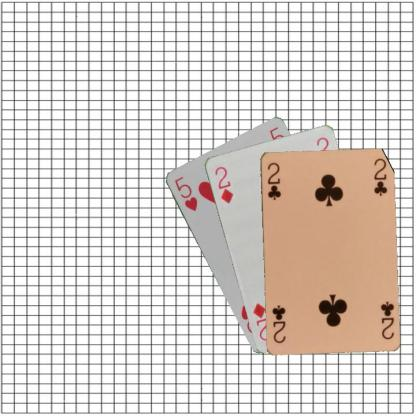2c: (377, 298, 395, 340), (265, 160, 282, 201)
2d: (212, 164, 235, 205)
5h: (172, 173, 198, 212)
